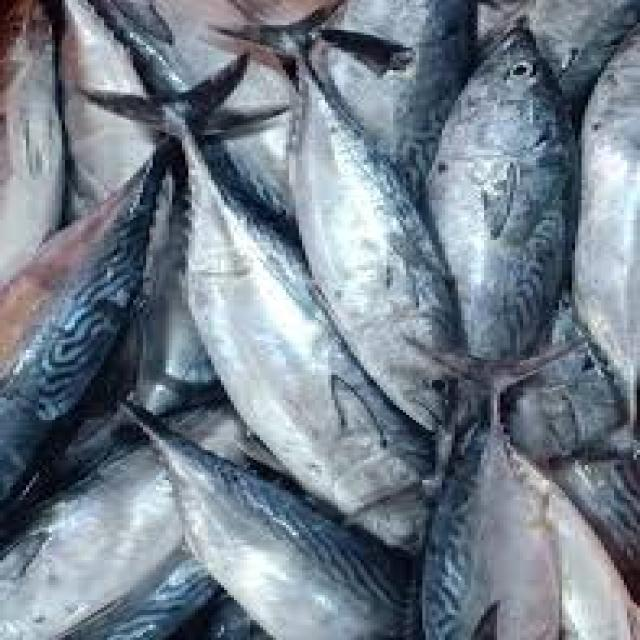Tuna: (79, 51, 439, 552), (205, 2, 460, 436)
